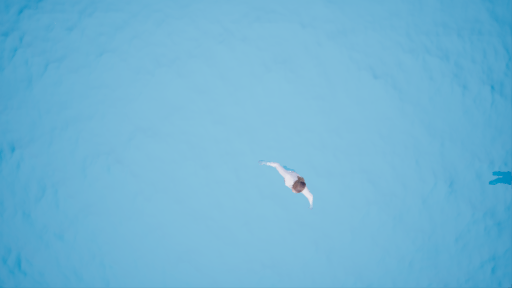person: (252, 159, 322, 208)
